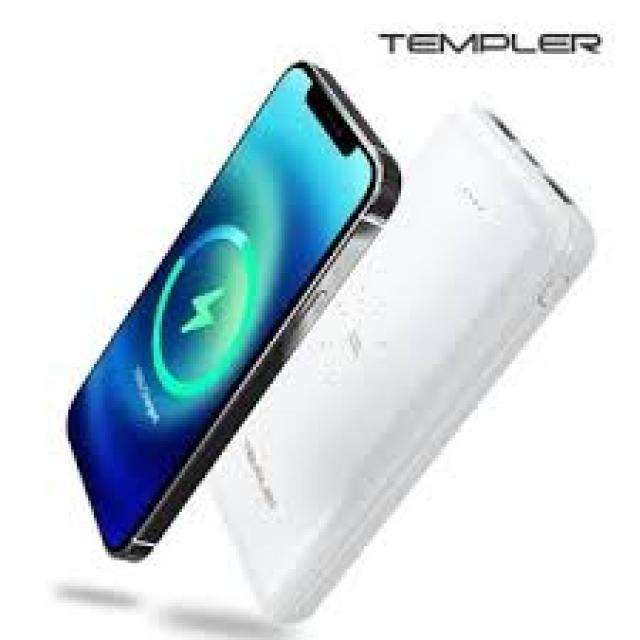power_bank: (190, 102, 600, 627)
